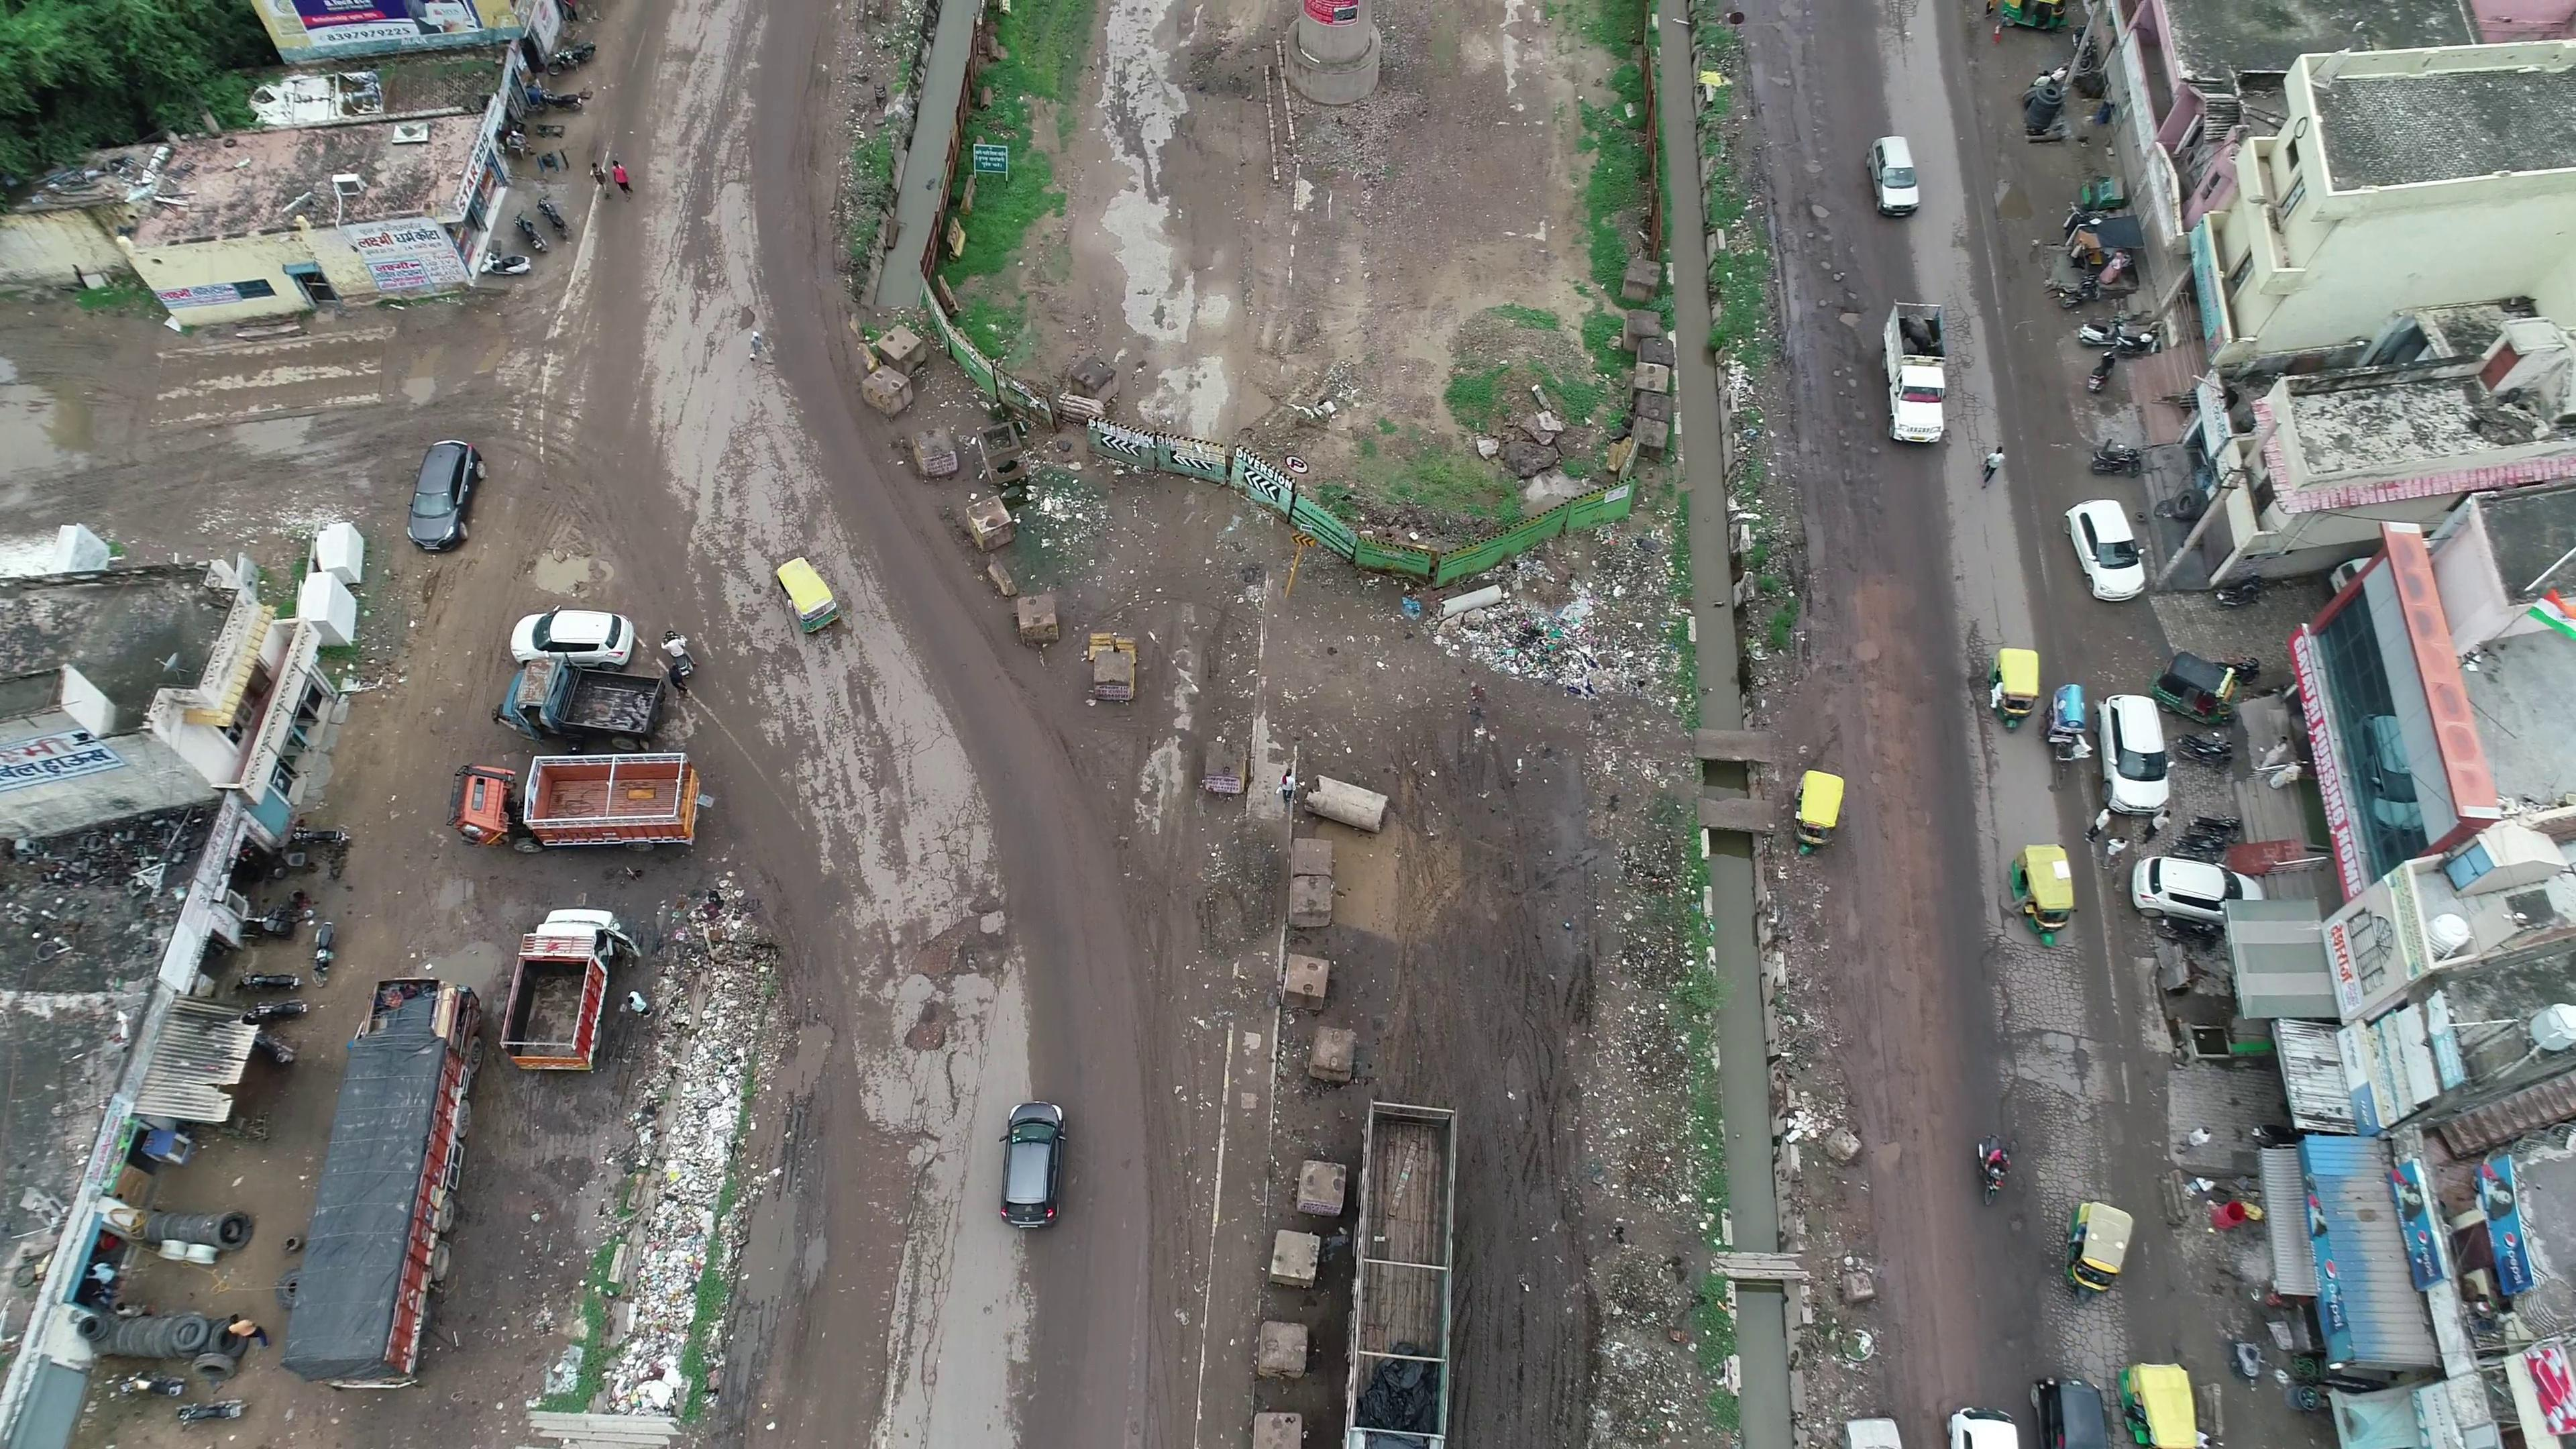Alligator_cracks: (1982, 936, 2114, 1198), (2036, 1185, 2132, 1391), (706, 432, 805, 545), (1941, 308, 2006, 462), (1959, 617, 2001, 770), (934, 794, 984, 911)
Longitudinal_cracks: (918, 1017, 1001, 1391)
Muddy_road: (1065, 872, 1196, 1226)
Potholes: (1796, 182, 1879, 403)
Road_side_garbage: (609, 989, 750, 1376), (1465, 616, 1656, 706)
